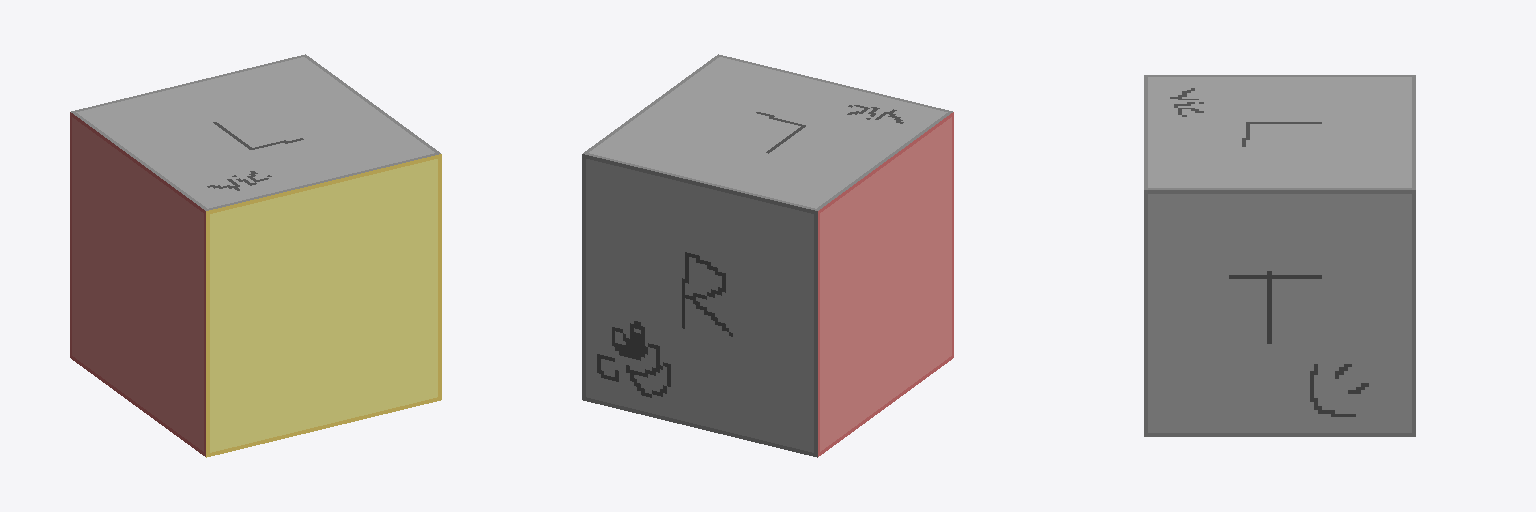
3 renders of one model, left to right at view 1: azimuth 30°, elevation 25°; view 2: azimuth 150°, elevation 25°; view 3: azimuth 270°, elevation 25°, orthographic.
Visible parts, largest first — view 1: mesh; view 2: mesh; view 3: mesh.
Part boxes in pixels (left/top/right/bottom): mesh: left=70, top=54, right=441, bottom=457; mesh: left=582, top=54, right=953, bottom=457; mesh: left=1144, top=75, right=1415, bottom=436.
Size of the model in its own units: 1 by 1 by 1.
Materials: 1 (1 with a texture image).